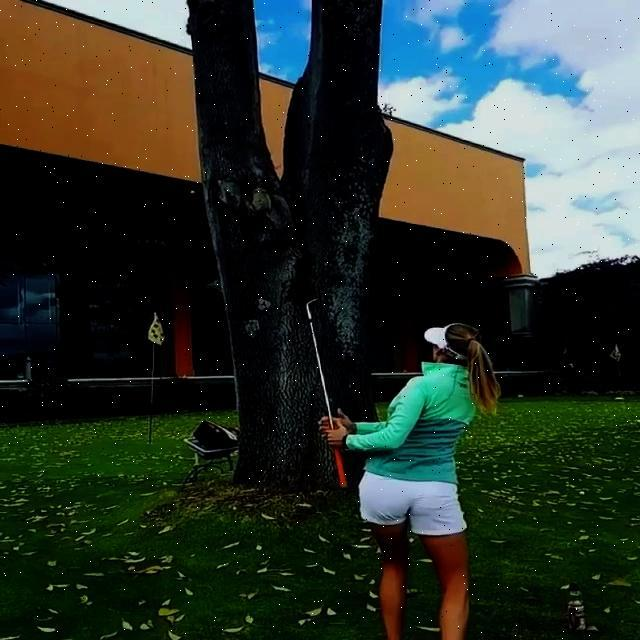golf club-handle: (305, 299, 349, 489)
golf club-head: (305, 298, 319, 304)
